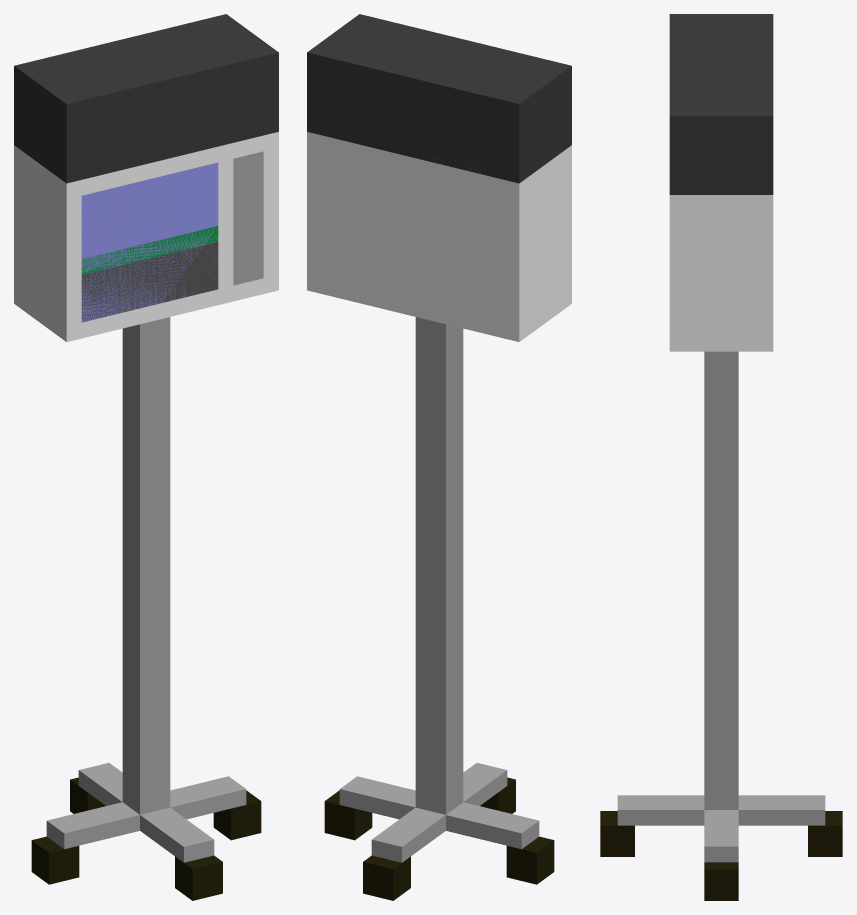
Rendered from Operating room Equip1-1.fbx.
The picture shows the model from 3 angles, left to right: view 1: azimuth 30°, elevation 25°; view 2: azimuth 150°, elevation 25°; view 3: azimuth 270°, elevation 25°; orthographic projection.
Parts seen in each view (by area): view 1: Operating room Equip1-1.002, Operating room Equip1-1.001, Operating room Equip1-1.007, Operating room Equip1-1, Operating room Equip1-1.004; view 2: Operating room Equip1-1.002, Operating room Equip1-1.001; view 3: Operating room Equip1-1.002, Operating room Equip1-1.001.
Boxes of the visible parts, x1,y1,x2,y2 form: Operating room Equip1-1.002: (14,14,278,341); Operating room Equip1-1.001: (31,317,261,900); Operating room Equip1-1.007: (81,162,218,322); Operating room Equip1-1: (81,242,218,322); Operating room Equip1-1.004: (81,226,218,274); Operating room Equip1-1.002: (307,14,571,341); Operating room Equip1-1.001: (324,164,554,900); Operating room Equip1-1.002: (669,14,773,351); Operating room Equip1-1.001: (600,351,842,900).
Size of the model in its own units: 1.4 by 5 by 1.4.
